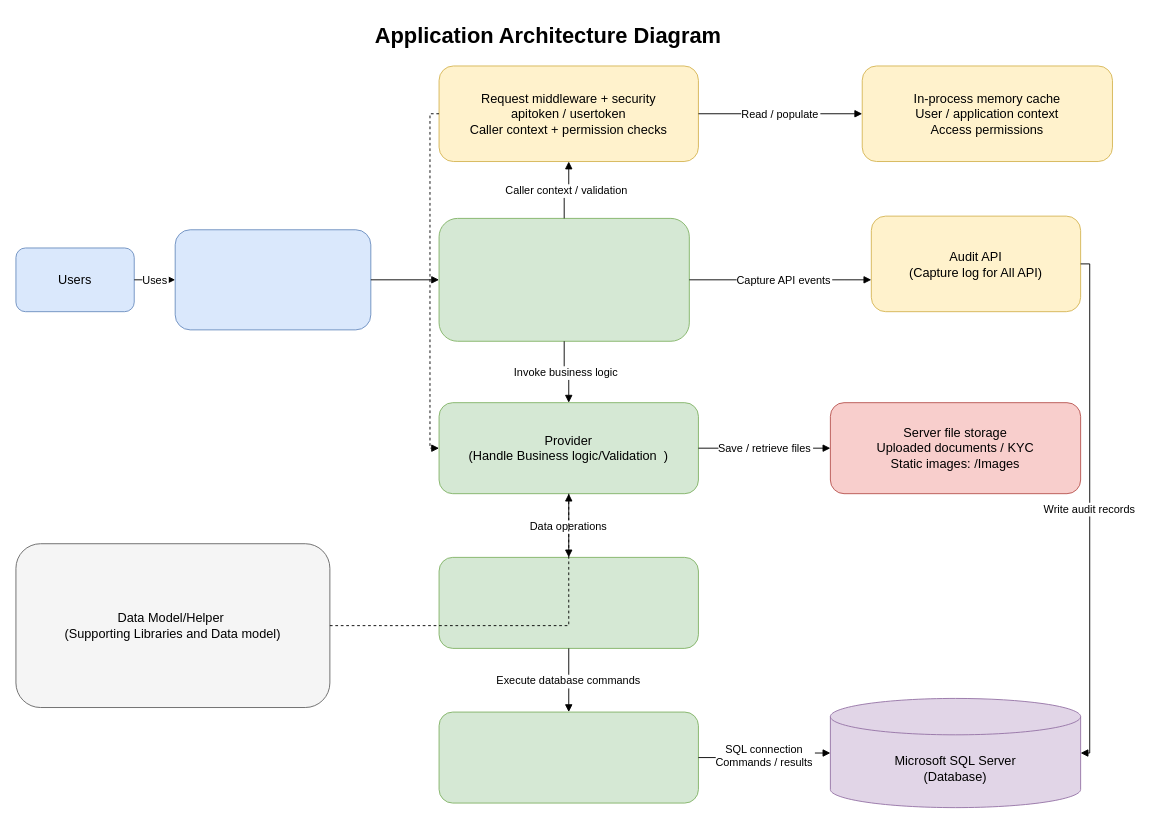
This 1152x824 diagram has some shape labels left out. Here are the shapes that lost their labels. From the top down, the centre of each, then its label:
At pixel 272 279: "Web App/Mobile App".
At pixel 563 279: "Application API (Handle user Request & Response)".
At pixel 568 602: "Repository (All Database Operation)".
At pixel 568 757: "Database Connector".
